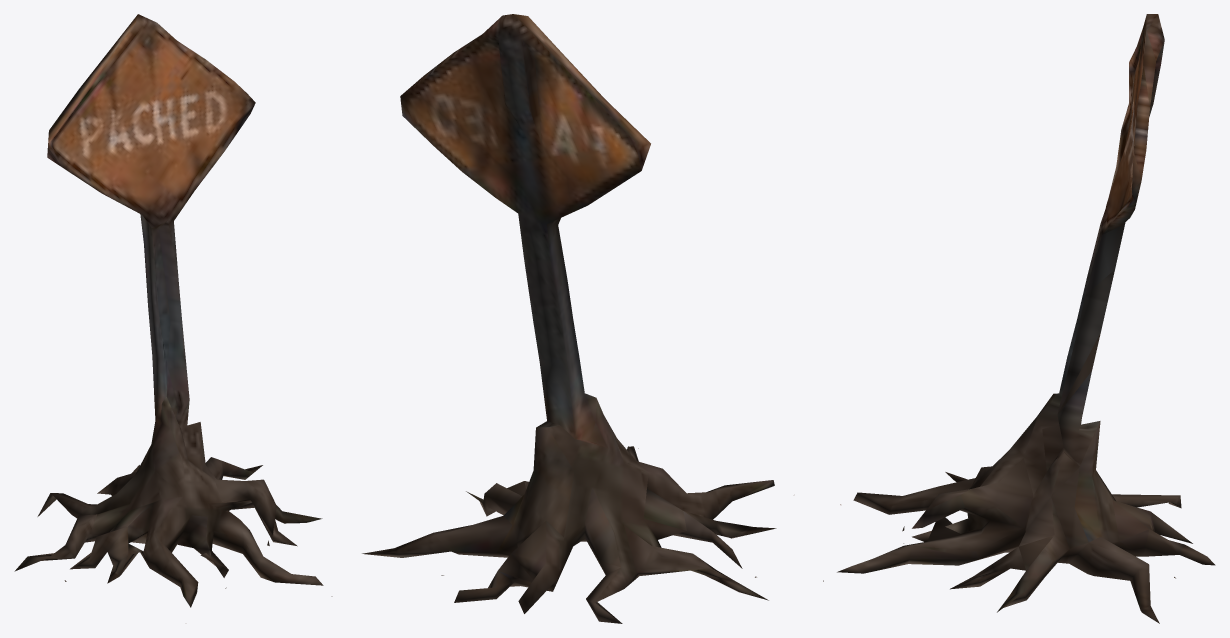
The model's file is prop_road_sign.glb.
The picture shows the model from 3 angles, left to right: view 1: azimuth 30°, elevation 25°; view 2: azimuth 150°, elevation 25°; view 3: azimuth 270°, elevation 25°; orthographic projection. The views are drawn at different scales.
Parts seen in each view (by area): view 1: Mesh_0; view 2: Mesh_0; view 3: Mesh_0.
Boxes of the visible parts, x1,y1,x2,y2 form: Mesh_0: [14, 14, 332, 607]; Mesh_0: [362, 14, 776, 623]; Mesh_0: [823, 14, 1215, 623].
Size of the model in its own units: 1.27 by 2 by 1.31.
Materials: 1 (1 with a texture image).
